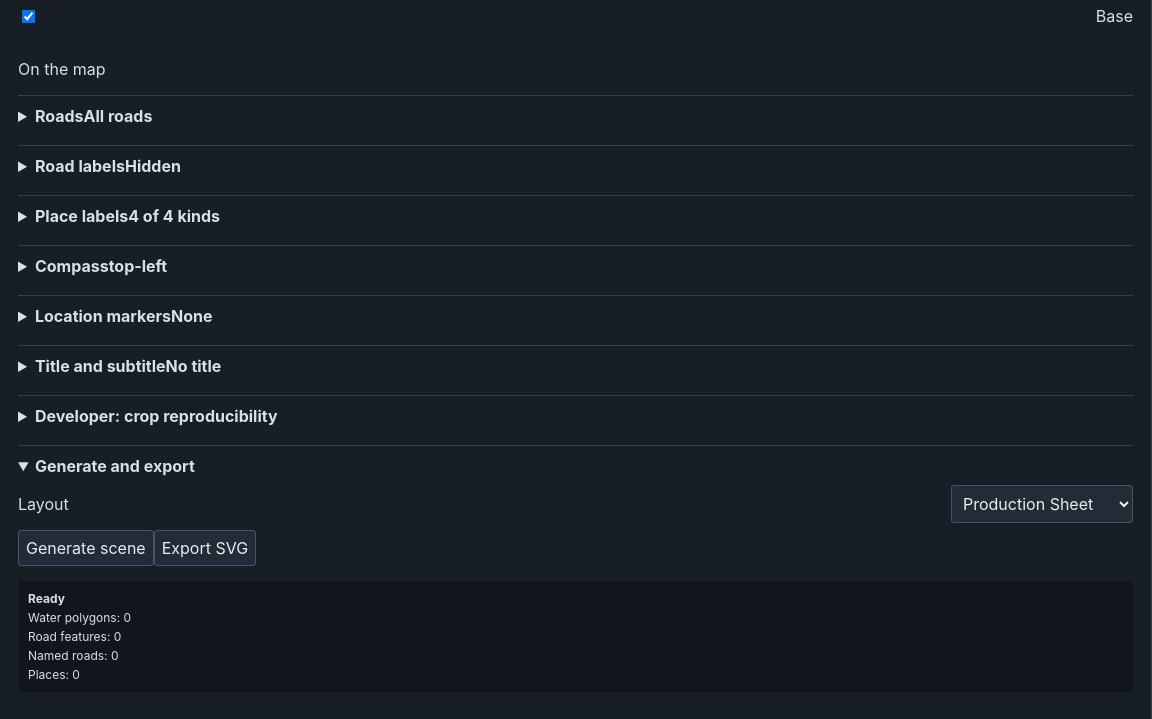
it: Controls: developer crop JSON tool › disables Copy/Apply until there is a crop to copy or JSON to apply
(page scrolled)
What coordinates should you click on to do the following:
click the heading "Developer: crop reproducibility"
I would click on:
 (156, 416)
Its box is left=35, top=406, right=278, bottom=426.
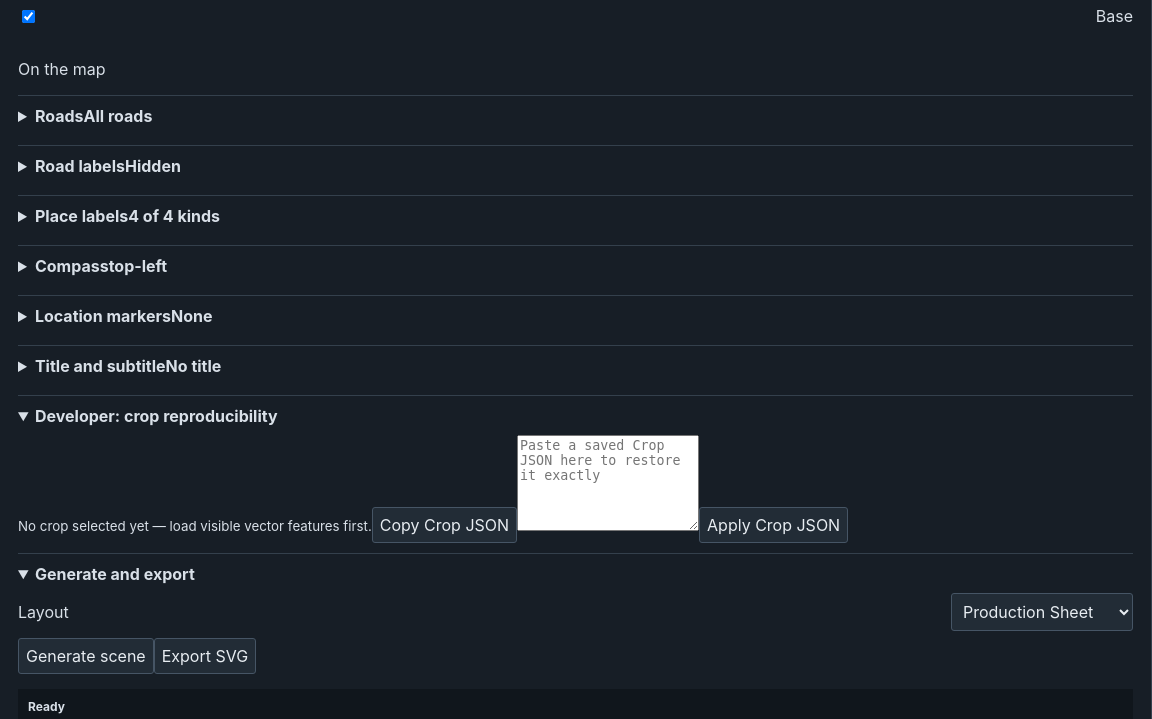
Expected: the button "Copy Crop JSON" is disabled, left=372, top=507, right=517, bottom=543
Expected: the button "Apply Crop JSON" is disabled, left=699, top=507, right=848, bottom=543
